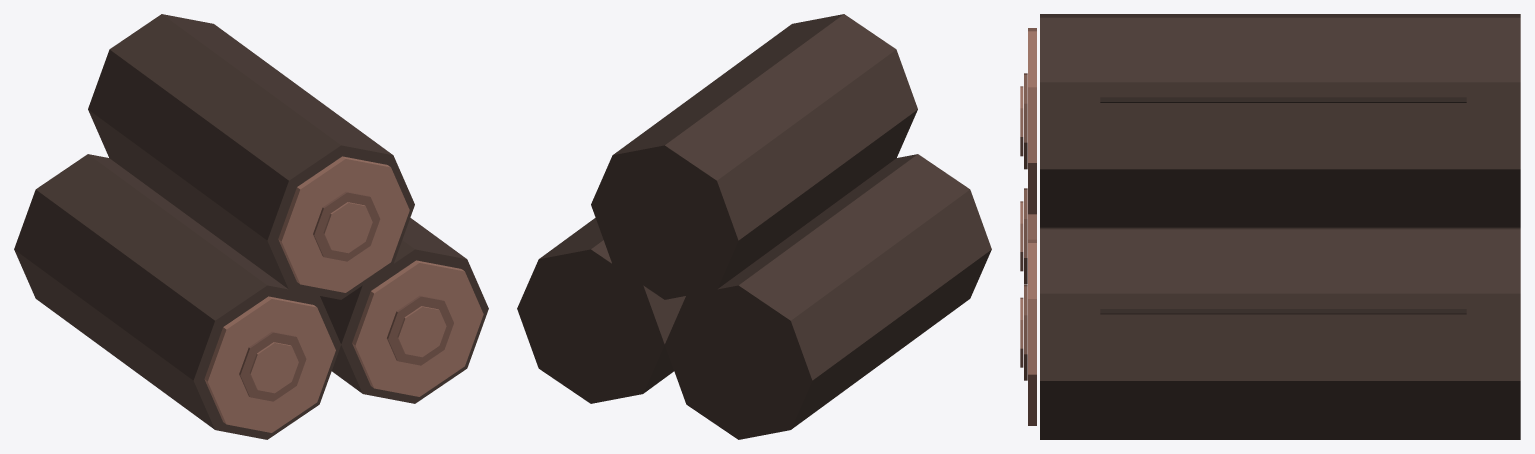
File: yewLogs.glb
3 renders of one model, left to right at view 1: azimuth 30°, elevation 25°; view 2: azimuth 150°, elevation 25°; view 3: azimuth 270°, elevation 25°, orthographic. The views are drawn at different scales.
Parts seen in each view (by area): view 1: yewLogs; view 2: yewLogs; view 3: yewLogs.
Boxes of the visible parts, bbox=[...] form: yewLogs: bbox=[14, 14, 488, 439]; yewLogs: bbox=[517, 14, 991, 439]; yewLogs: bbox=[1020, 14, 1520, 439].
Size of the model in its own units: 0.9124 by 0.8163 by 1.
